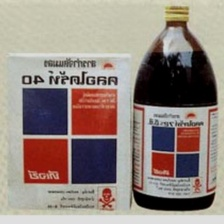book: (0, 48, 136, 214)
insecticide: (129, 2, 221, 215)
